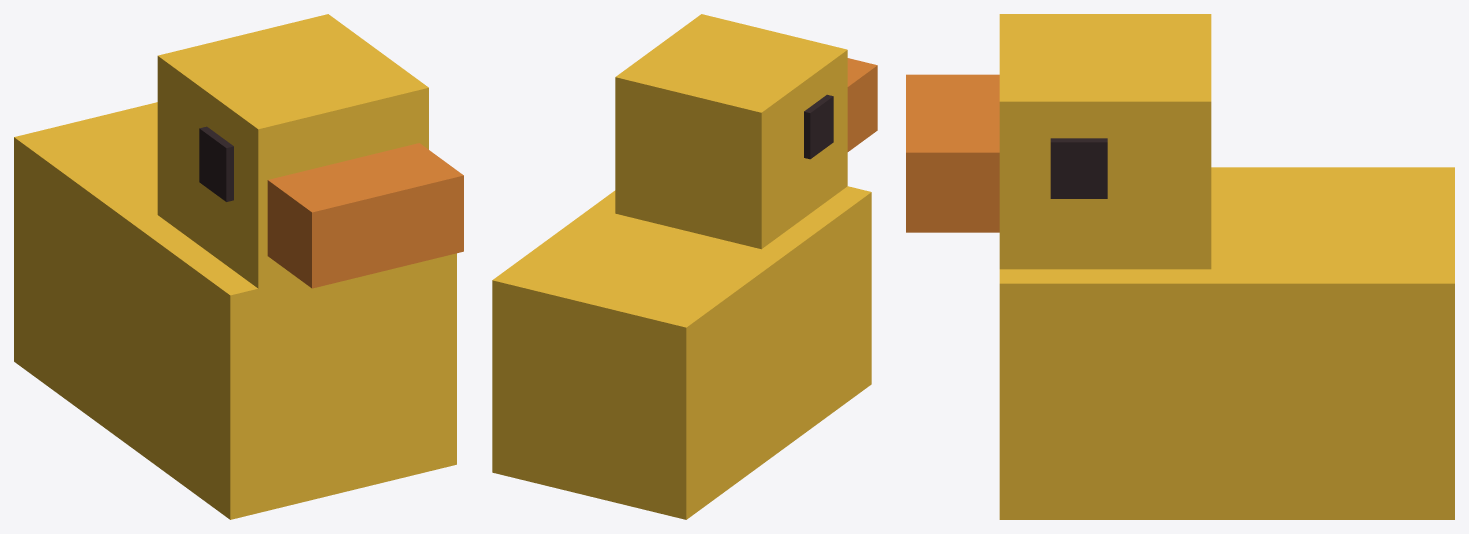
The model's file is duck.fbx.
The picture shows the model from 3 angles, left to right: view 1: azimuth 30°, elevation 25°; view 2: azimuth 150°, elevation 25°; view 3: azimuth 270°, elevation 25°; orthographic projection. The views are drawn at different scales.
Visible parts, largest first — view 1: duck; view 2: duck; view 3: duck.
Part boxes in pixels (x1=…): duck: x1=14, y1=14, x2=463, y2=519; duck: x1=492, y1=14, x2=877, y2=519; duck: x1=906, y1=14, x2=1454, y2=519.
Size of the model in its own units: 20.22 by 10.15 by 16.42.
